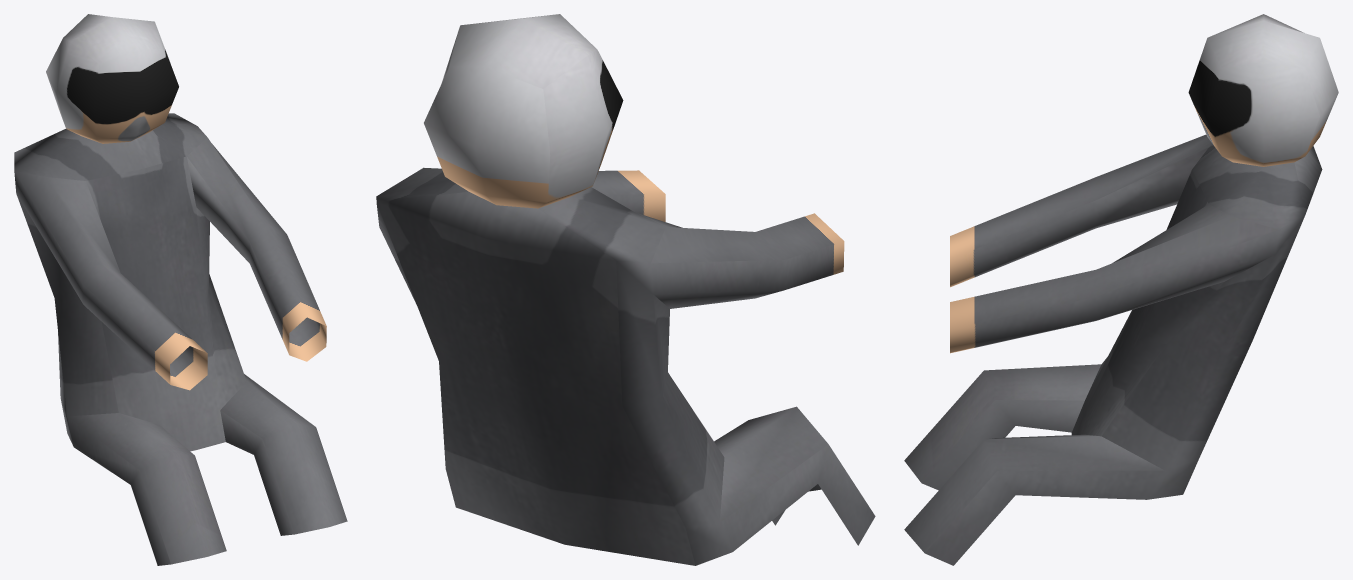
Rendered from hornet_pilot.fbx.
3 views of the same model, side by side, from view 1: azimuth 30°, elevation 25°; view 2: azimuth 150°, elevation 25°; view 3: azimuth 270°, elevation 25° (orthographic). The views are drawn at different scales.
Parts seen in each view (by area): view 1: pCube1; view 2: pCube1; view 3: pCube1.
Boxes of the visible parts, <box> form: pCube1: <box>14,14,347,565</box>; pCube1: <box>376,14,875,565</box>; pCube1: <box>904,14,1338,565</box>.
Bounding box in the file's own units: 66.62 × 134 × 106.
